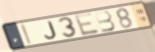3: (58, 16, 79, 39)
8: (116, 8, 134, 30)
B: (93, 10, 117, 33)
E: (73, 11, 101, 37)
I: (20, 23, 34, 46)
J: (44, 20, 58, 40)
